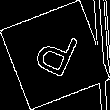P_SW: (28, 25, 82, 85)
